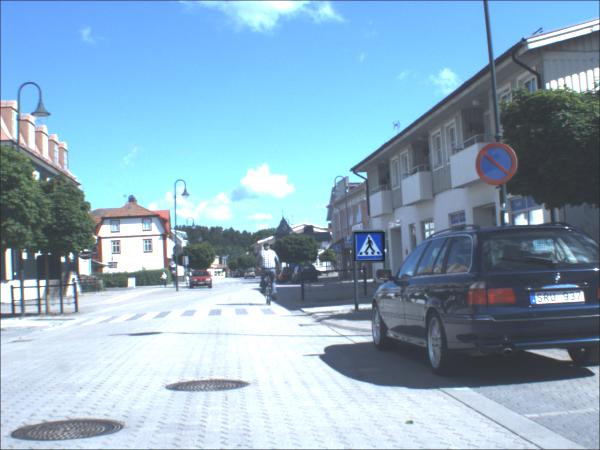NO_PARKING: (476, 143, 521, 184)
PEDESTRIAN_CROSSING: (355, 233, 387, 263)
